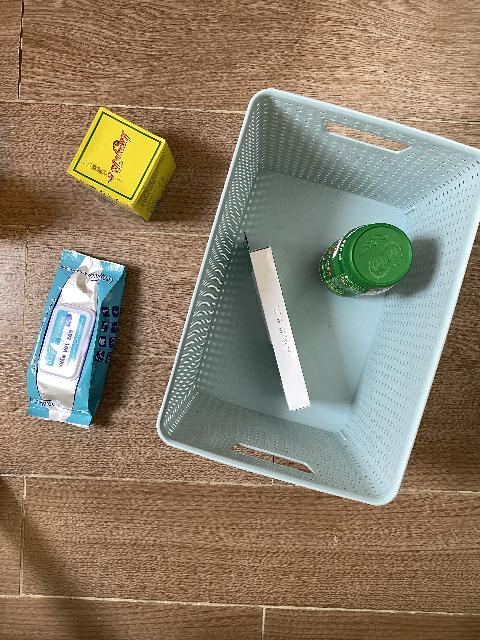4D_medical_face-mask: (244, 233, 311, 412)
Let-green_alcohol_wipes: (26, 250, 126, 430)
cart: (156, 88, 480, 510)
luong_kho: (67, 109, 175, 223)
milo: (319, 223, 413, 298)
